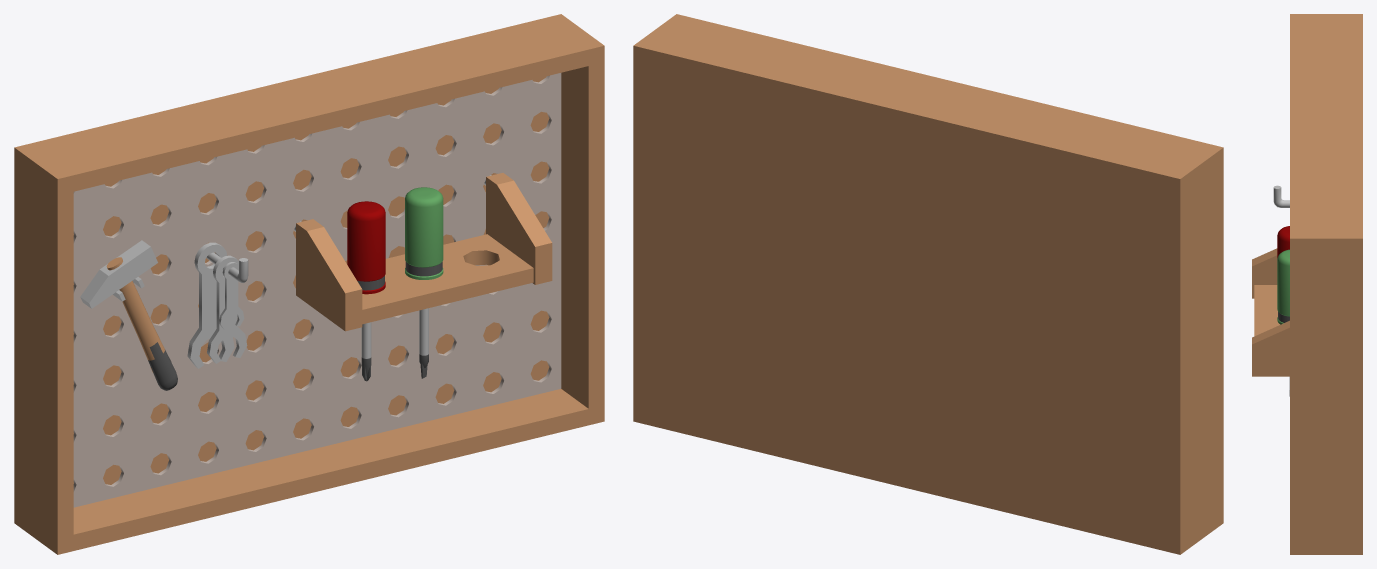
Rendered from work shelf.fbx.
The picture shows the model from 3 angles, left to right: view 1: azimuth 30°, elevation 25°; view 2: azimuth 150°, elevation 25°; view 3: azimuth 270°, elevation 25°; orthographic projection. The views are drawn at different scales.
Visible parts, largest first — view 1: Cube.005_wood_0; view 2: Cube.005_wood_0; view 3: Cube.005_wood_0.
Part boxes in pixels (x1,y1,x2,y2): Cube.005_wood_0: (14, 14, 604, 554); Cube.005_wood_0: (633, 14, 1223, 554); Cube.005_wood_0: (1252, 14, 1362, 554).
Size of the model in its own units: 1.58 by 1.03 by 0.3287.
